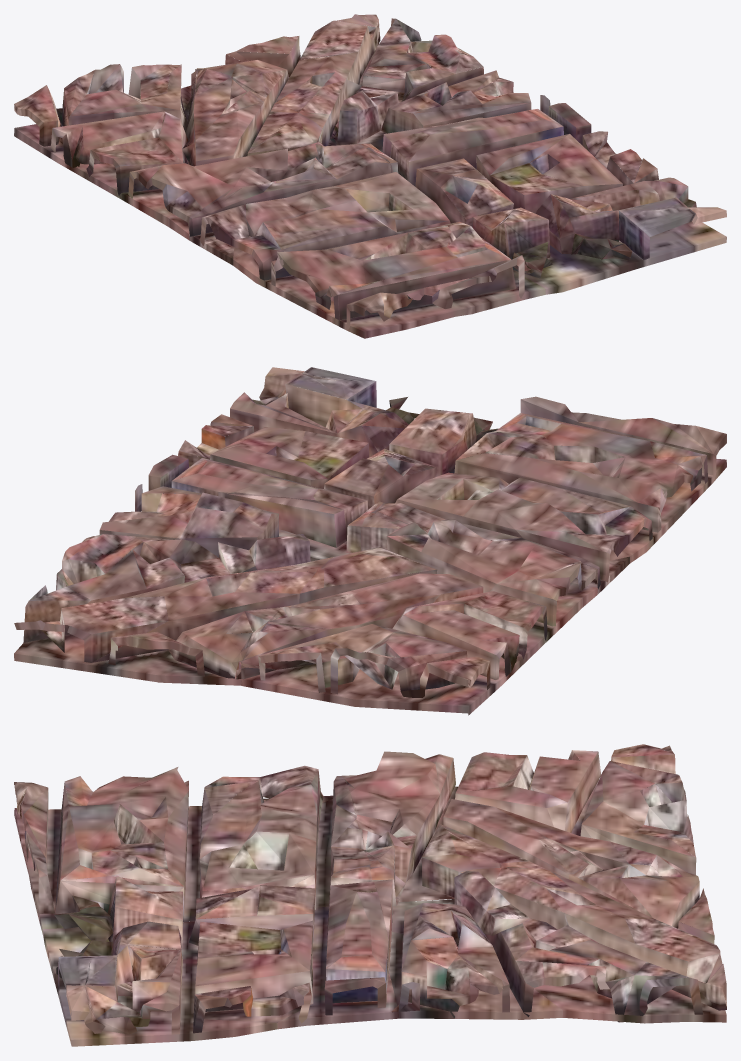
3 views of the same model, one above another, from view 1: azimuth 30°, elevation 25°; view 2: azimuth 150°, elevation 25°; view 3: azimuth 270°, elevation 25° (orthographic). The views are drawn at different scales.
Parts seen in each view (by area): view 1: Mesh_0; view 2: Mesh_0; view 3: Mesh_0.
Boxes of the visible parts, <box> form: Mesh_0: <box>14,14,726,338</box>; Mesh_0: <box>14,367,726,715</box>; Mesh_0: <box>14,744,726,1046</box>.
Size of the model in its own units: 266 by 38.5 by 330.
Materials: 2 (2 with a texture image).
